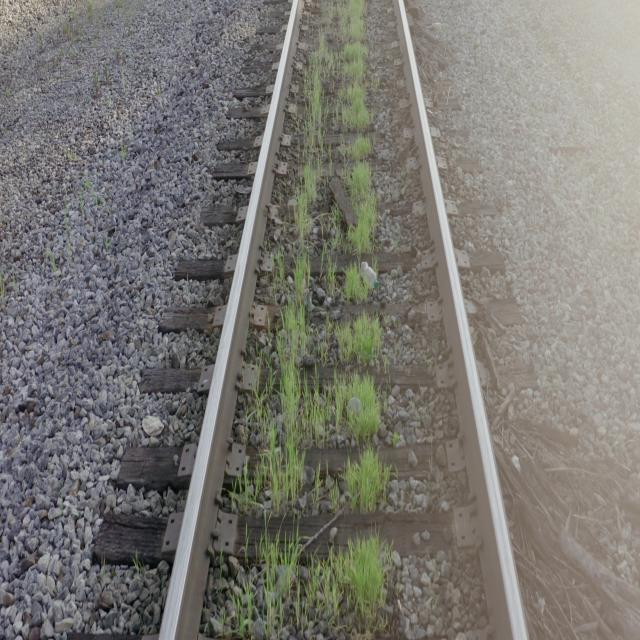Plant: (244, 0, 390, 513), (232, 536, 389, 636), (321, 264, 370, 302)
